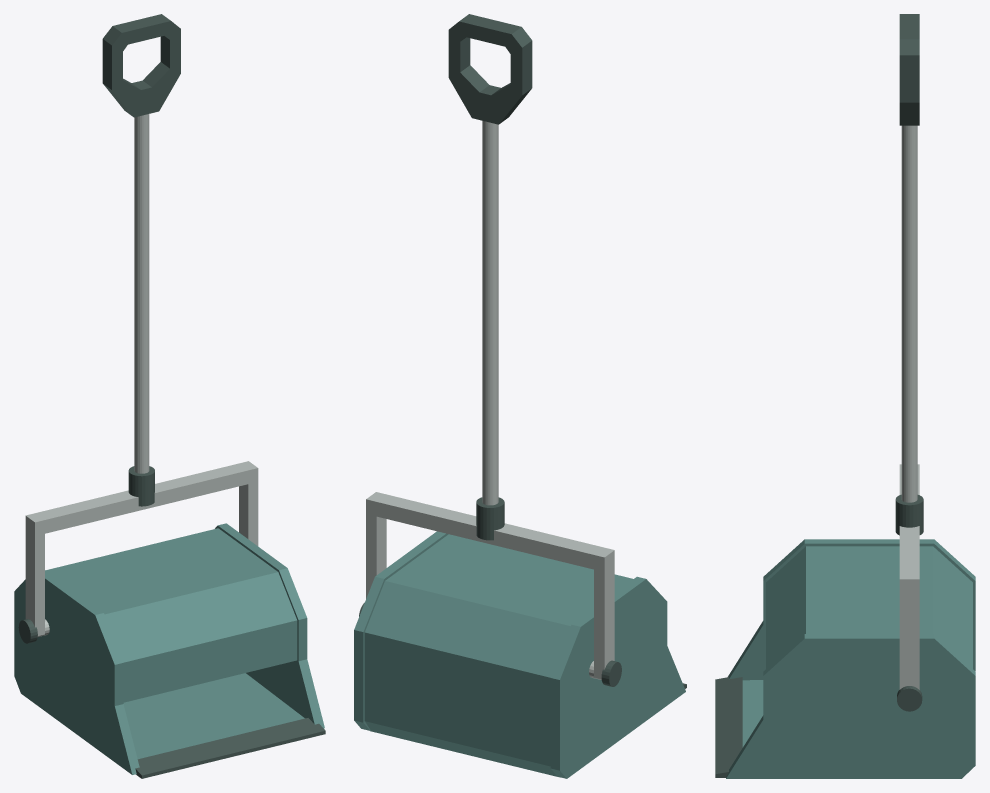
The picture shows the model from 3 angles, left to right: view 1: azimuth 30°, elevation 25°; view 2: azimuth 150°, elevation 25°; view 3: azimuth 270°, elevation 25°; orthographic projection. The views are drawn at different scales.
Parts seen in each view (by area): view 1: WholeContinuousFloorRearAndHoodShell, WholeProudEndCheek-1, WholeUShapedExternalHandleFork, WholeLongUprightPole, WholeUpperOpenHandGrip, WholeProudEndCheek1, WholeFiniteBluntFrontEntryLip, WholeForkToPoleSocket; view 2: WholeContinuousFloorRearAndHoodShell, WholeProudEndCheek-1, WholeUShapedExternalHandleFork, WholeLongUprightPole, WholeUpperOpenHandGrip, WholeProudEndCheek1, WholeForkToPoleSocket; view 3: WholeProudEndCheek1, WholeContinuousFloorRearAndHoodShell, WholeLongUprightPole, WholeUShapedExternalHandleFork, WholeProudEndCheek-1, WholeFiniteBluntFrontEntryLip, WholeUpperOpenHandGrip, WholeForkToPoleSocket, WholeOuterPivotRetainer1.
Part boxes in pixels (x1,y1,x2,y2): WholeContinuousFloorRearAndHoodShell: (46, 528, 304, 759); WholeProudEndCheek-1: (14, 570, 139, 774); WholeUShapedExternalHandleFork: (25, 461, 258, 635); WholeLongUprightPole: (134, 114, 149, 473); WholeUpperOpenHandGrip: (102, 14, 180, 117); WholeProudEndCheek1: (215, 523, 324, 728); WholeFiniteBluntFrontEntryLip: (135, 718, 325, 778); WholeForkToPoleSocket: (128, 466, 154, 506); WholeContinuousFloorRearAndHoodShell: (364, 534, 633, 777); WholeProudEndCheek-1: (550, 576, 685, 778); WholeUShapedExternalHandleFork: (366, 492, 614, 678); WholeLongUprightPole: (482, 121, 498, 505); WholeUpperOpenHandGrip: (448, 14, 532, 124); WholeProudEndCheek1: (354, 531, 448, 730); WholeForkToPoleSocket: (476, 497, 504, 540); WholeProudEndCheek1: (726, 634, 975, 778); WholeContinuousFloorRearAndHoodShell: (742, 546, 972, 747); WholeLongUprightPole: (901, 125, 917, 502); WholeUShapedExternalHandleFork: (899, 464, 919, 689); WholeProudEndCheek-1: (728, 539, 975, 680); WholeFiniteBluntFrontEntryLip: (715, 677, 742, 777); WholeUpperOpenHandGrip: (899, 14, 919, 125); WholeForkToPoleSocket: (895, 494, 923, 535); WholeOuterPivotRetainer1: (897, 686, 922, 711).
Size of the model in its own units: 0.428 by 1.16 by 0.39.
